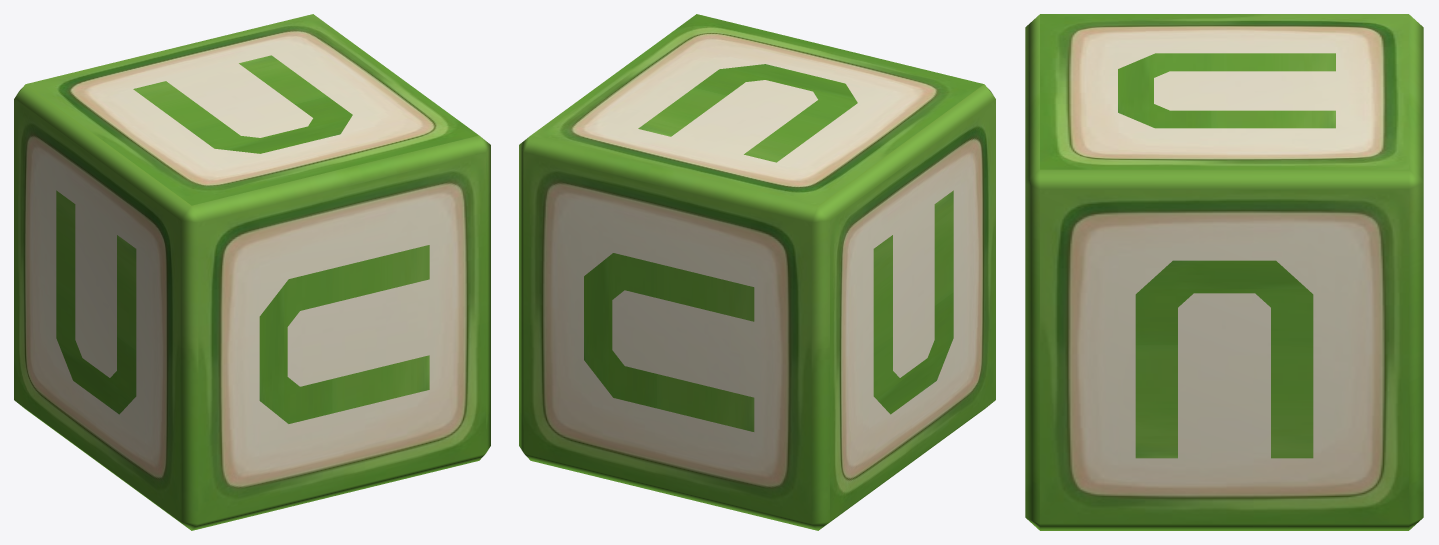
The model's file is CubeU.glb.
3 views of the same model, side by side, from view 1: azimuth 30°, elevation 25°; view 2: azimuth 150°, elevation 25°; view 3: azimuth 270°, elevation 25° (orthographic). The views are drawn at different scales.
Visible parts, largest first — view 1: CubeU; view 2: CubeU; view 3: CubeU.
Boxes of the visible parts, x1=… form: CubeU: x1=14, y1=14, x2=490, y2=530; CubeU: x1=519, y1=14, x2=995, y2=530; CubeU: x1=1025, y1=14, x2=1423, y2=530.
Size of what is drawn, in the model's own units: 0.513 by 0.513 by 0.513.
Materials: 1 (1 with a texture image).
